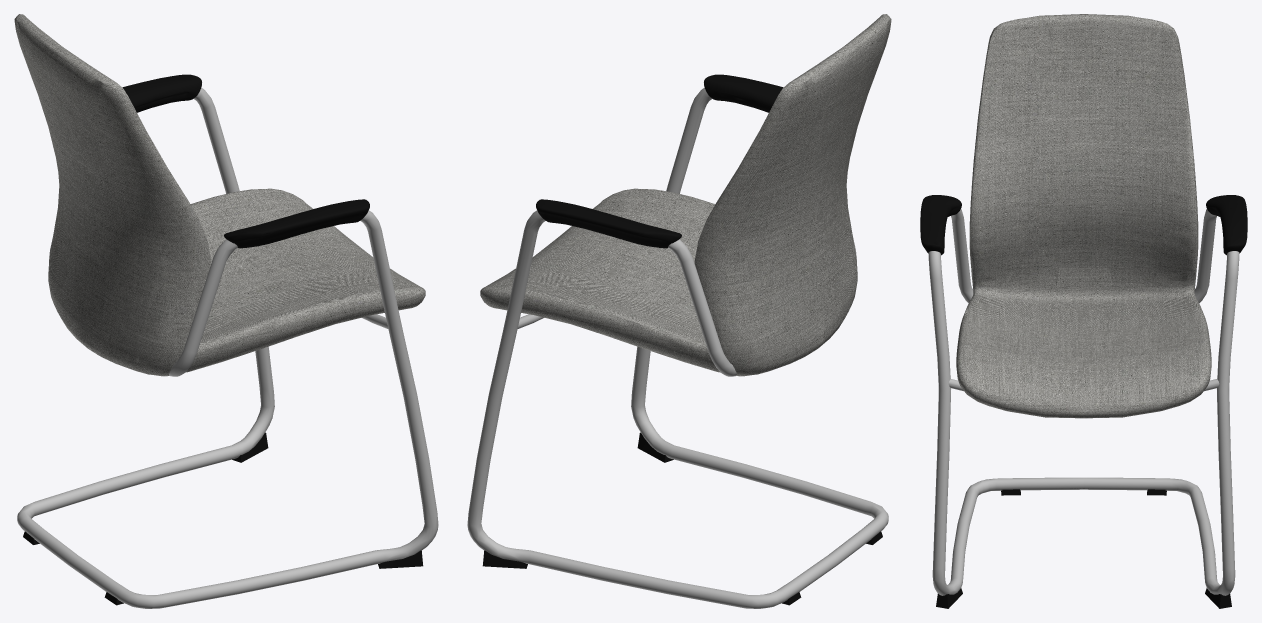
The model's file is chair.dae.
3 views of the same model, side by side, from view 1: azimuth 30°, elevation 25°; view 2: azimuth 150°, elevation 25°; view 3: azimuth 270°, elevation 25° (orthographic). The views are drawn at different scales.
Parts seen in each view (by area): view 1: Seat-Back, Legs (×2), Armpads (×2); view 2: Seat-Back, Legs (×2), Armpads (×2); view 3: Seat-Back, Legs (×2), Armpads (×2).
Part boxes in pixels (x1,y1,x2,y2): Seat-Back: (14,14,425,376); Legs (×2): (17,88,438,608); Armpads (×2): (122,74,369,248); Seat-Back: (480,14,891,376); Legs (×2): (467,88,888,608); Armpads (×2): (536,74,783,248); Seat-Back: (956,14,1211,418); Legs (×2): (928,209,1239,595); Armpads (×2): (920,195,1247,255).
Bounding box in the file's own units: 23.39 × 22.96 × 36.38.
Materials: 11 (9 with a texture image).
